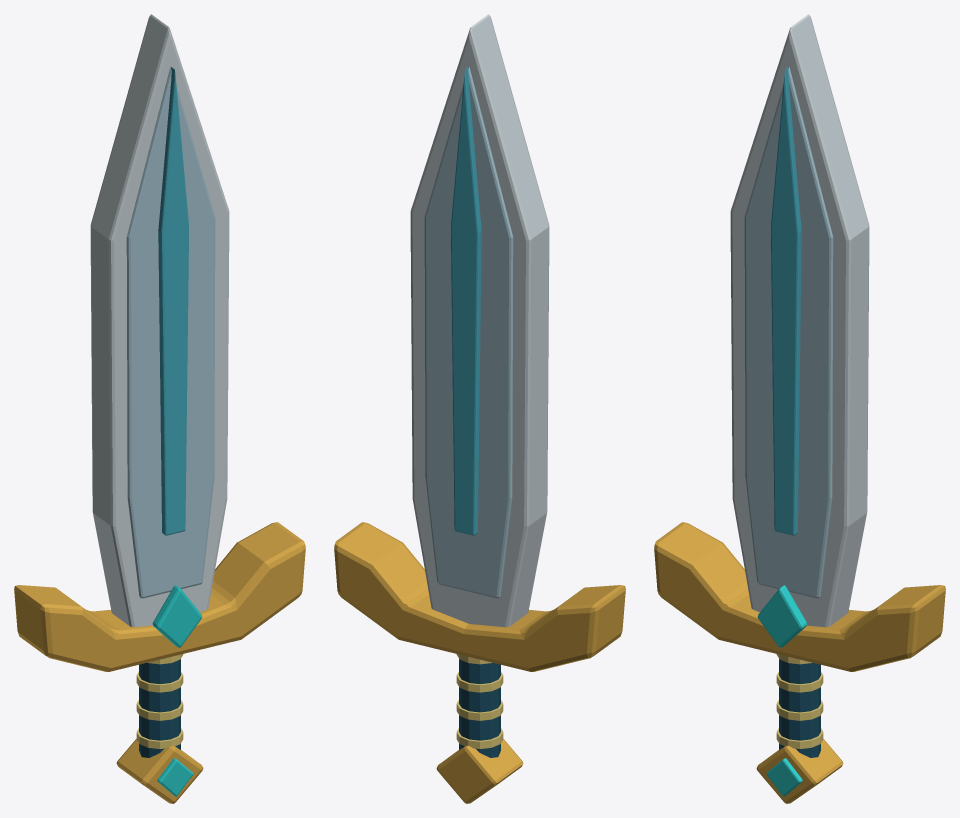
The model's file is royal_sword_v1.glb.
3 views of the same model, side by side, from view 1: azimuth 30°, elevation 25°; view 2: azimuth 150°, elevation 25°; view 3: azimuth 330°, elevation 25° (orthographic).
Parts seen in each view (by area): view 1: RoyalArmory_Sword; view 2: RoyalArmory_Sword; view 3: RoyalArmory_Sword.
Boxes of the visible parts, x1=… form: RoyalArmory_Sword: x1=14, y1=14, x2=305, y2=803; RoyalArmory_Sword: x1=334, y1=14, x2=625, y2=803; RoyalArmory_Sword: x1=654, y1=14, x2=945, y2=803.
Size of the model in its own units: 0.6378 by 1.78 by 0.154.
